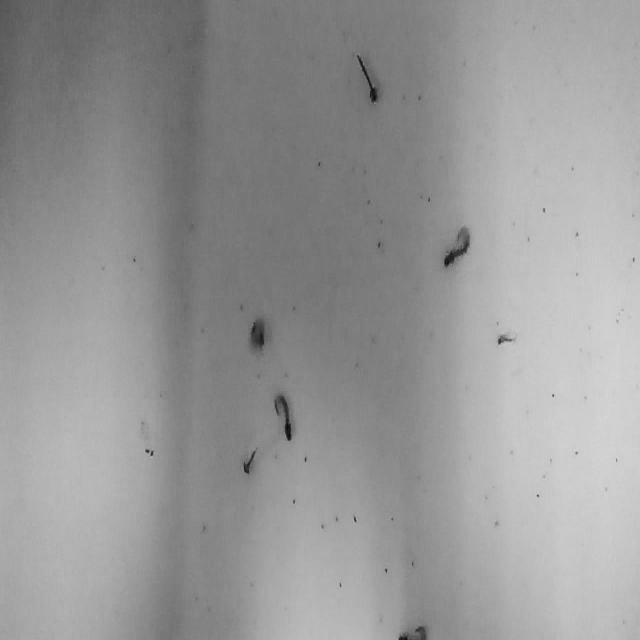larvas: (443, 222, 471, 270), (272, 392, 294, 442), (356, 51, 378, 100), (250, 316, 266, 350), (399, 624, 427, 639), (242, 446, 256, 474), (496, 332, 518, 344)
